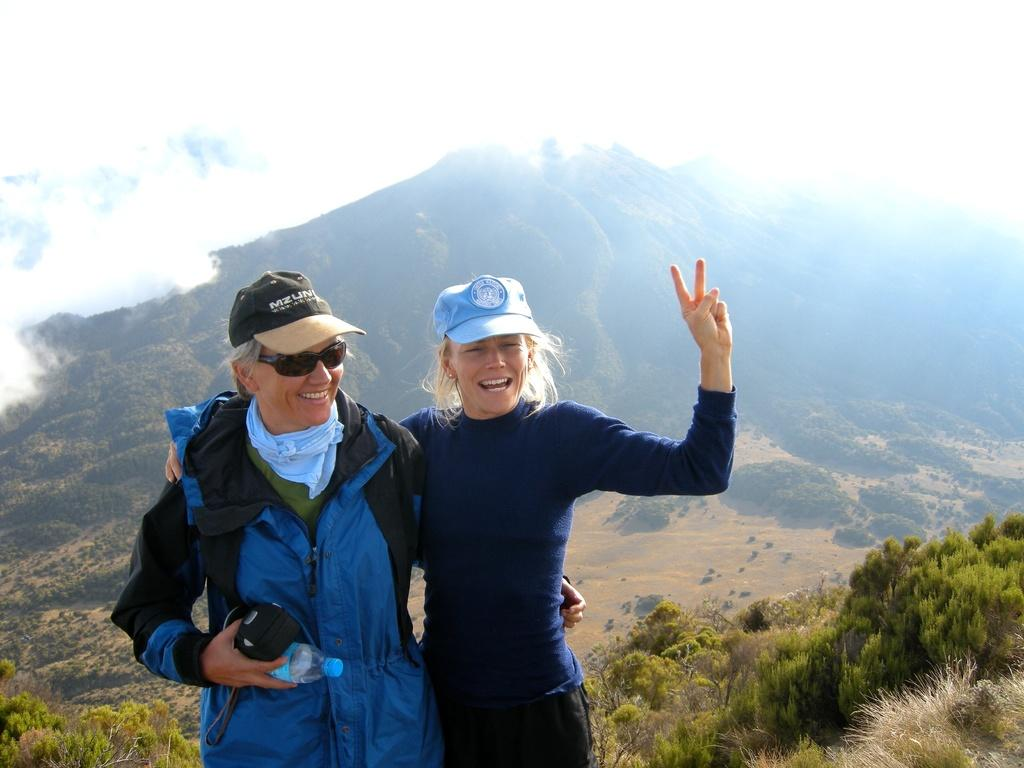Hat: (228, 268, 366, 356), (434, 272, 542, 345)
